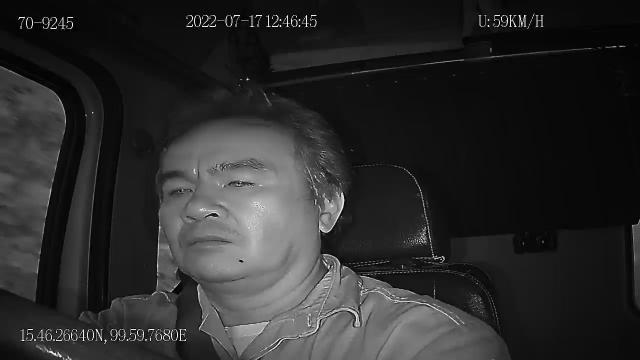SafeDriving: (214, 167, 266, 196), (158, 174, 198, 204)
Seatbelt: (173, 280, 223, 360)
